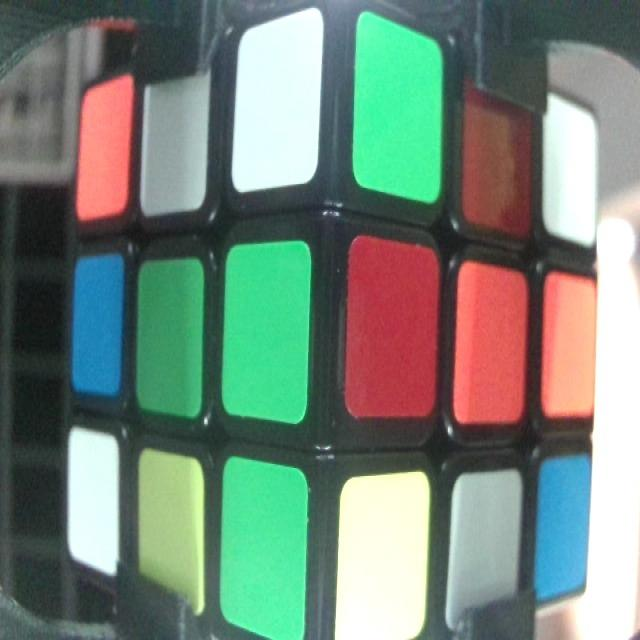b: (536, 459, 587, 593), (72, 257, 121, 390)
g: (354, 17, 440, 195), (223, 459, 305, 639), (226, 246, 308, 424), (138, 261, 202, 418)
o: (459, 264, 523, 424), (542, 276, 596, 421), (78, 82, 128, 214)
r: (348, 241, 436, 413), (463, 70, 532, 228)
w: (236, 29, 316, 190), (446, 474, 524, 628), (144, 61, 208, 210), (68, 428, 119, 574), (543, 102, 596, 242)
y: (342, 476, 426, 640), (136, 449, 202, 604)
